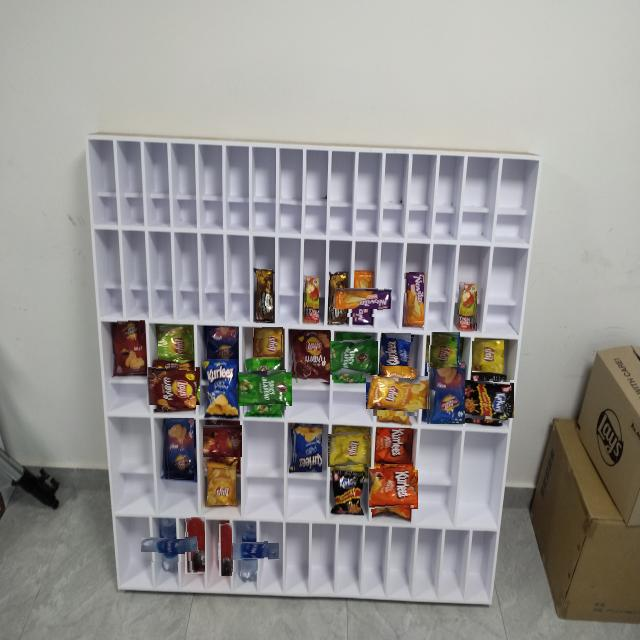Plastic: (426, 362, 465, 424), (373, 368, 421, 416), (202, 359, 238, 420), (464, 376, 510, 423), (290, 330, 330, 383), (240, 366, 286, 412), (150, 363, 196, 409), (371, 466, 415, 512), (111, 320, 145, 376), (164, 418, 194, 480), (332, 337, 374, 380), (229, 532, 268, 572), (344, 279, 384, 317), (330, 432, 369, 470), (292, 424, 322, 472), (204, 423, 240, 459), (332, 473, 363, 514), (376, 429, 412, 464), (150, 527, 185, 562), (184, 517, 205, 574), (428, 333, 462, 367), (158, 326, 192, 360), (403, 272, 424, 327), (207, 466, 236, 505), (472, 340, 504, 372), (206, 327, 238, 359), (381, 334, 413, 365), (255, 269, 273, 323), (329, 273, 348, 324), (254, 327, 284, 357), (459, 282, 477, 331), (303, 276, 319, 323), (218, 523, 232, 576)
